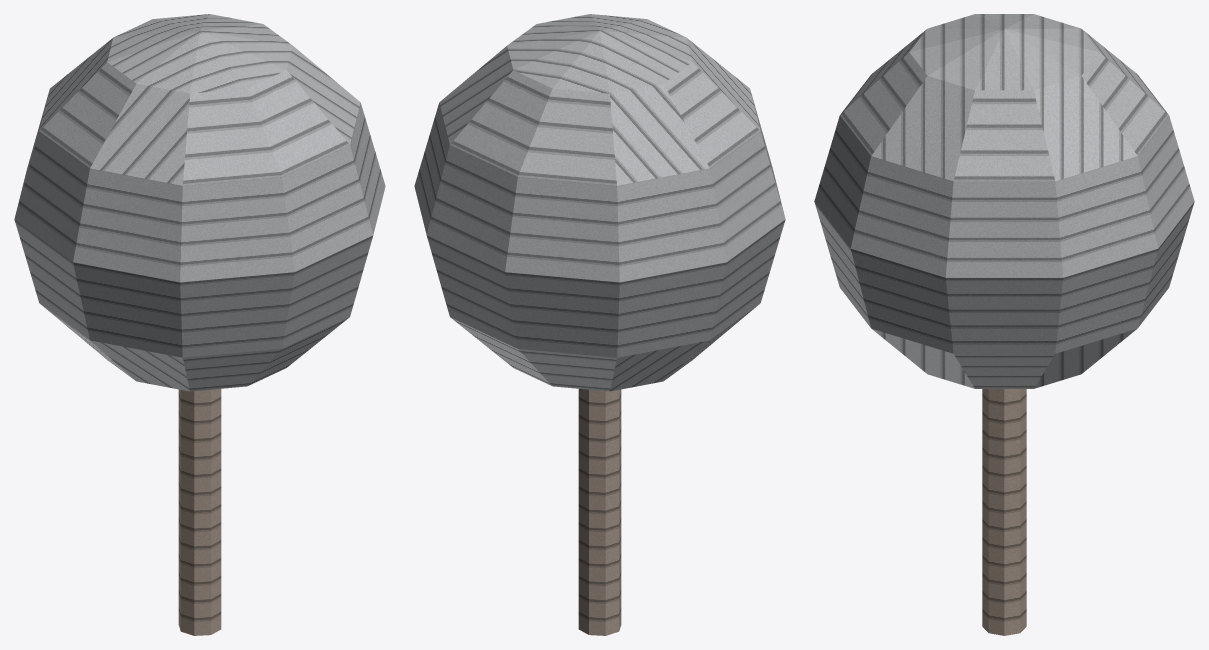
Rendered from tree_cherry_orchard.glb.
The picture shows the model from 3 angles, left to right: view 1: azimuth 30°, elevation 25°; view 2: azimuth 150°, elevation 25°; view 3: azimuth 270°, elevation 25°; orthographic projection.
Visible parts, largest first — view 1: tree_cherry_orchard-col; view 2: tree_cherry_orchard-col; view 3: tree_cherry_orchard-col.
Boxes of the visible parts, <box> form: tree_cherry_orchard-col: <box>14,14,385,635</box>; tree_cherry_orchard-col: <box>414,14,785,635</box>; tree_cherry_orchard-col: <box>814,14,1194,635</box>.
Bounding box in the file's own units: 2.28 × 4.16 × 2.4.
2 materials, 2 textured.
